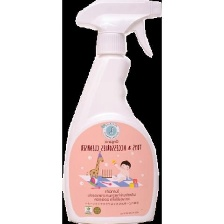cleaning_solution: (61, 0, 163, 224)
